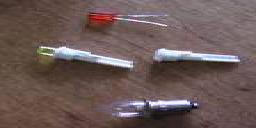LED: (155, 46, 241, 70), (82, 9, 175, 28), (105, 99, 198, 117), (34, 45, 60, 58)
